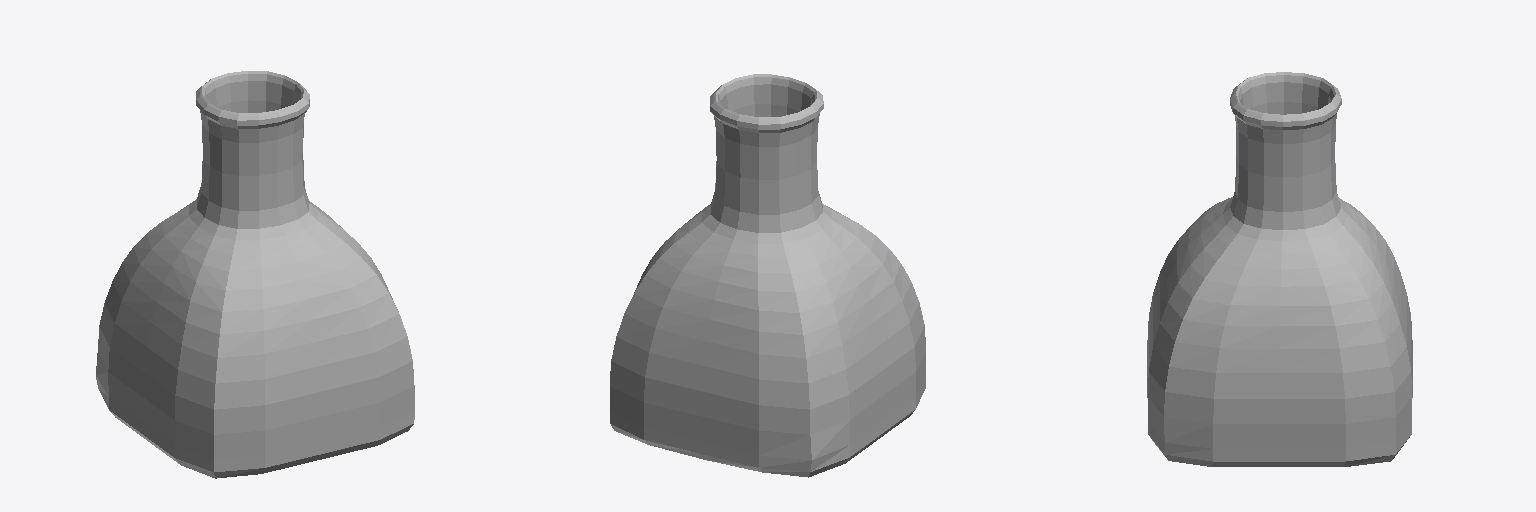
File: SqBottle.obj
3 renders of one model, left to right at view 1: azimuth 30°, elevation 25°; view 2: azimuth 150°, elevation 25°; view 3: azimuth 270°, elevation 25°, orthographic.
Visible parts, largest first — view 1: SqBottle; view 2: SqBottle; view 3: SqBottle.
Boxes of the visible parts, <box> form: SqBottle: <box>96,71,414,478</box>; SqBottle: <box>610,74,925,477</box>; SqBottle: <box>1147,72,1412,466</box>.
Size of the model in its own units: 0.9476 by 1.28 by 0.9476.